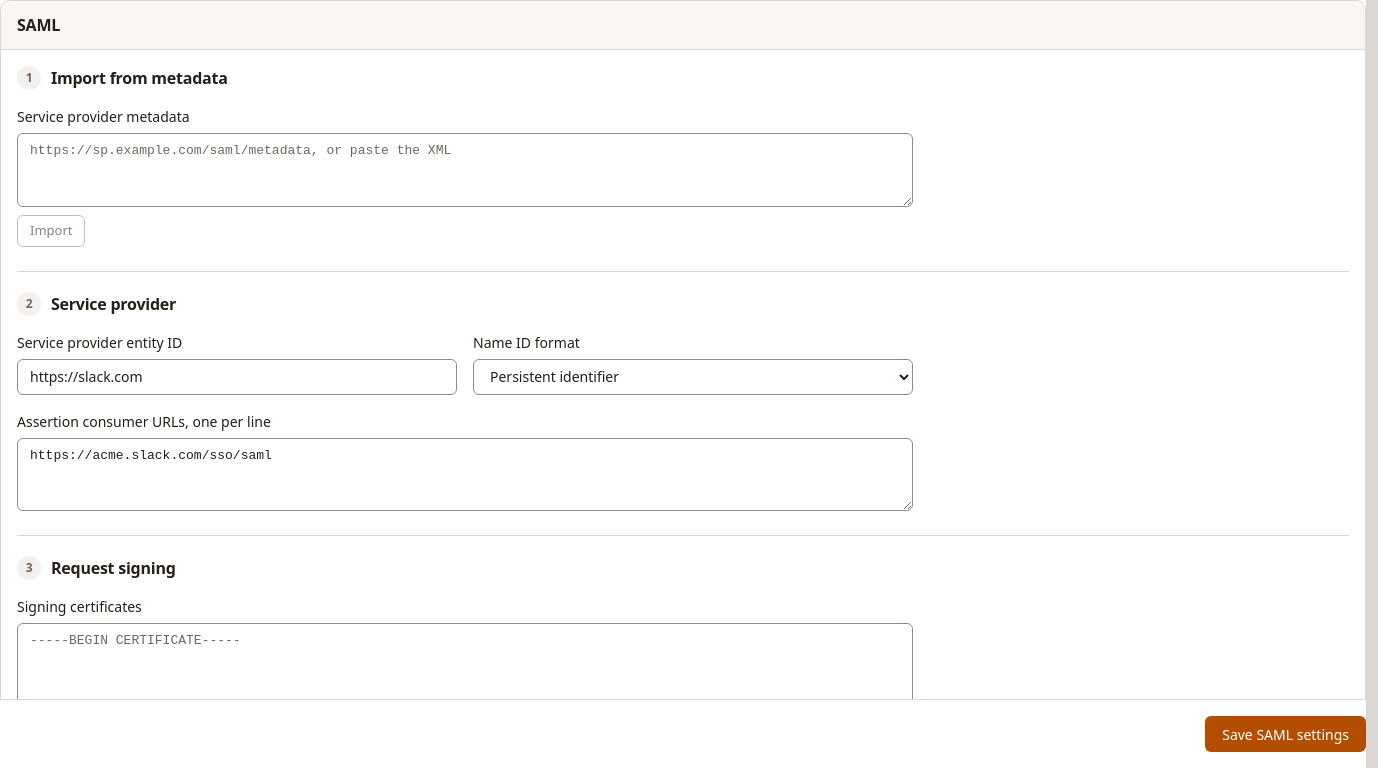
Test: ApplicationSso › shows the server’s refusal rather than a generic failure
Click the button "Save SAML settings". click: [1286, 734]
box: [1205,716,1366,752]
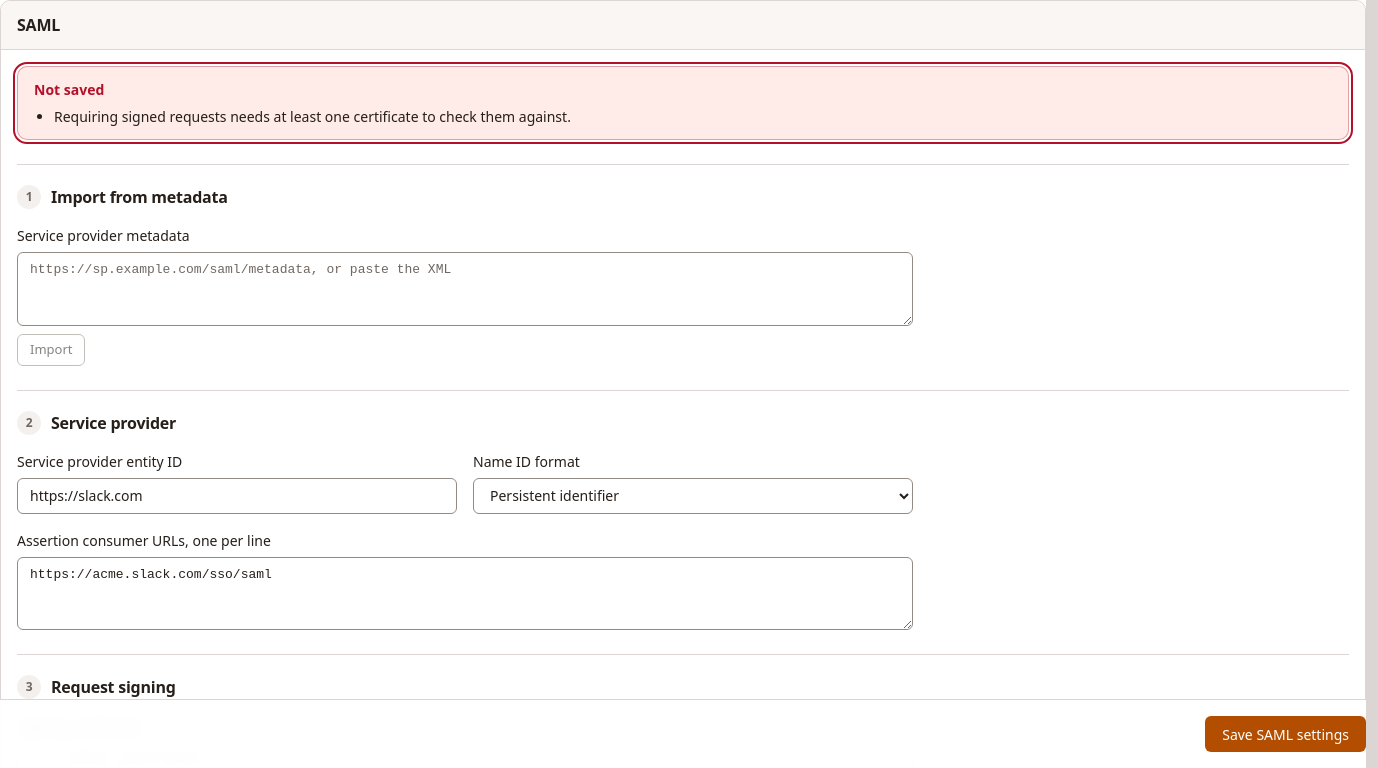
Now the list item "needs at least one certificate" is shown, box [54,107,571,126]
